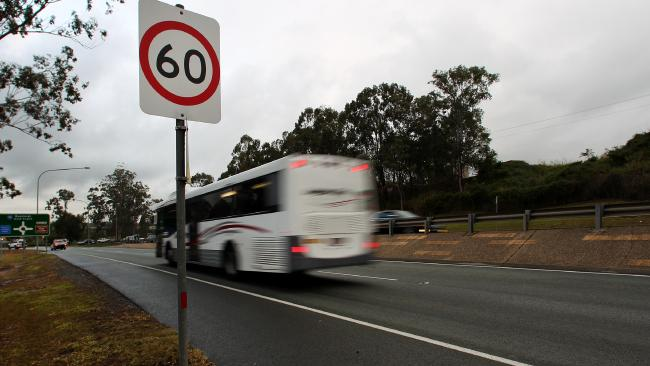Speed_limit_60km: (136, 21, 224, 106)
